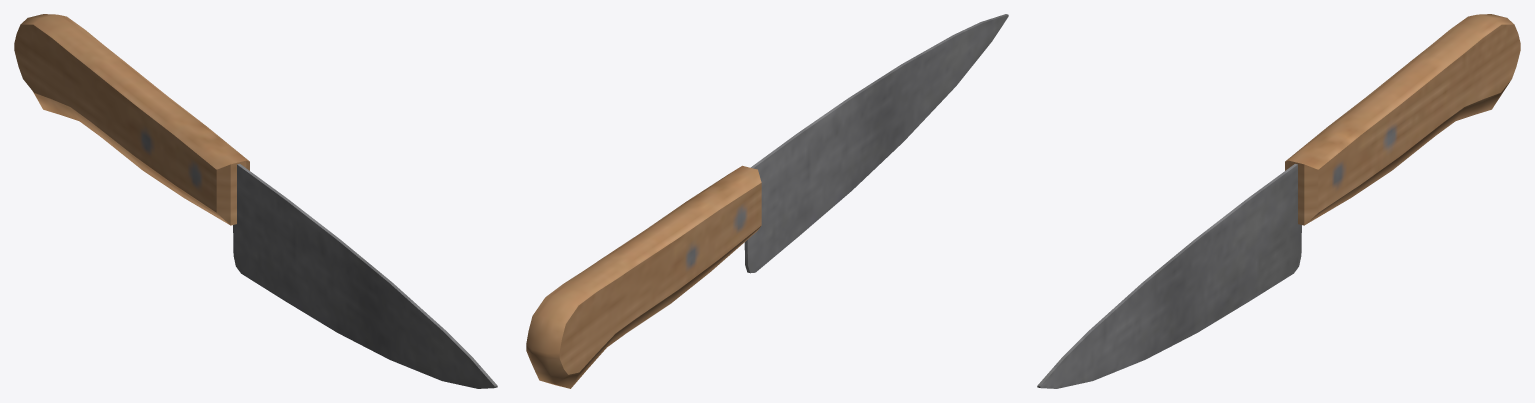
Rendered from knife.fbx.
3 renders of one model, left to right at view 1: azimuth 30°, elevation 25°; view 2: azimuth 150°, elevation 25°; view 3: azimuth 330°, elevation 25°, orthographic.
Parts seen in each view (by area): view 1: knife; view 2: knife; view 3: knife.
Boxes of the visible parts, x1,y1,x2,y2 form: knife: (14,14,497,388); knife: (526,14,1008,388); knife: (1037,14,1520,388).
Bounding box in the file's own units: 1.2 × 3.97 × 29.1.
